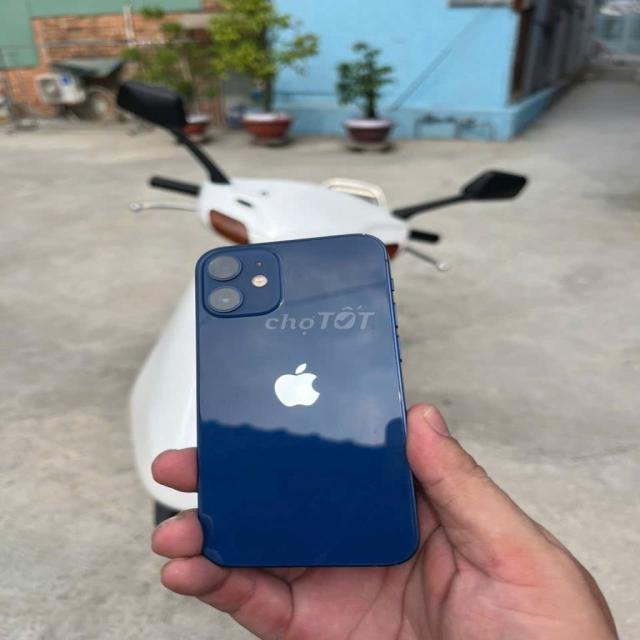gen_12_13: (175, 229, 461, 586)
